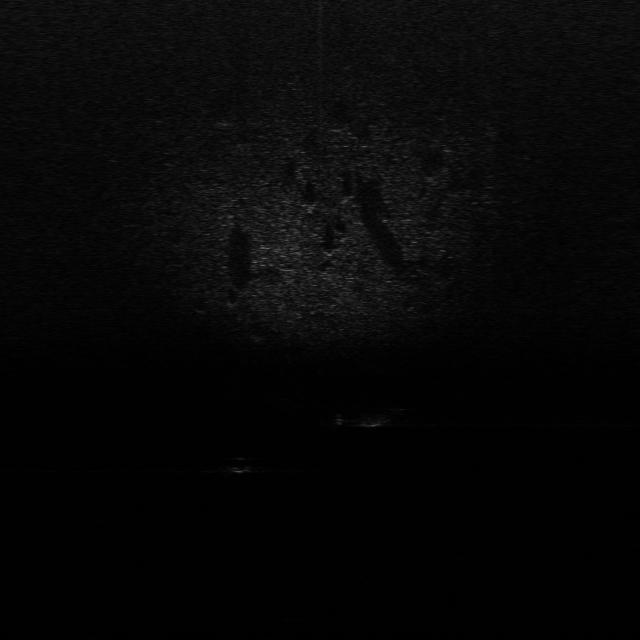ball: (220, 455, 254, 475)
human body: (333, 410, 409, 430)
